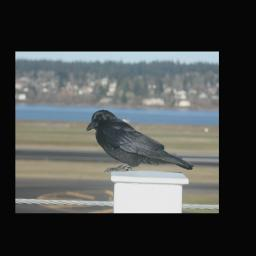Crow: (86, 109, 195, 172)
